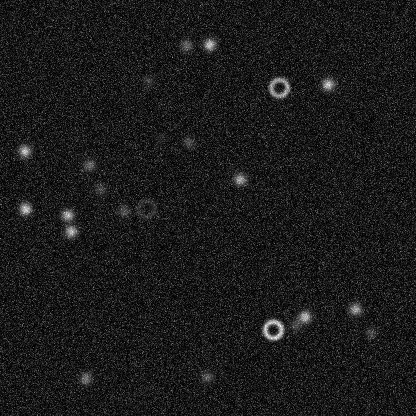Ring: (267, 75, 291, 99), (134, 196, 158, 220), (260, 317, 284, 341)
Spot: (140, 72, 156, 88), (77, 370, 93, 386), (17, 200, 33, 216), (347, 300, 363, 316), (287, 317, 303, 333), (115, 202, 131, 218), (92, 181, 108, 197), (62, 223, 78, 239), (231, 171, 247, 187), (180, 134, 196, 150), (198, 368, 214, 384), (178, 37, 194, 53), (363, 325, 379, 341), (201, 36, 217, 52), (152, 129, 168, 145), (16, 142, 32, 158), (320, 76, 336, 92), (296, 308, 312, 324), (59, 207, 75, 223), (81, 157, 97, 173)
